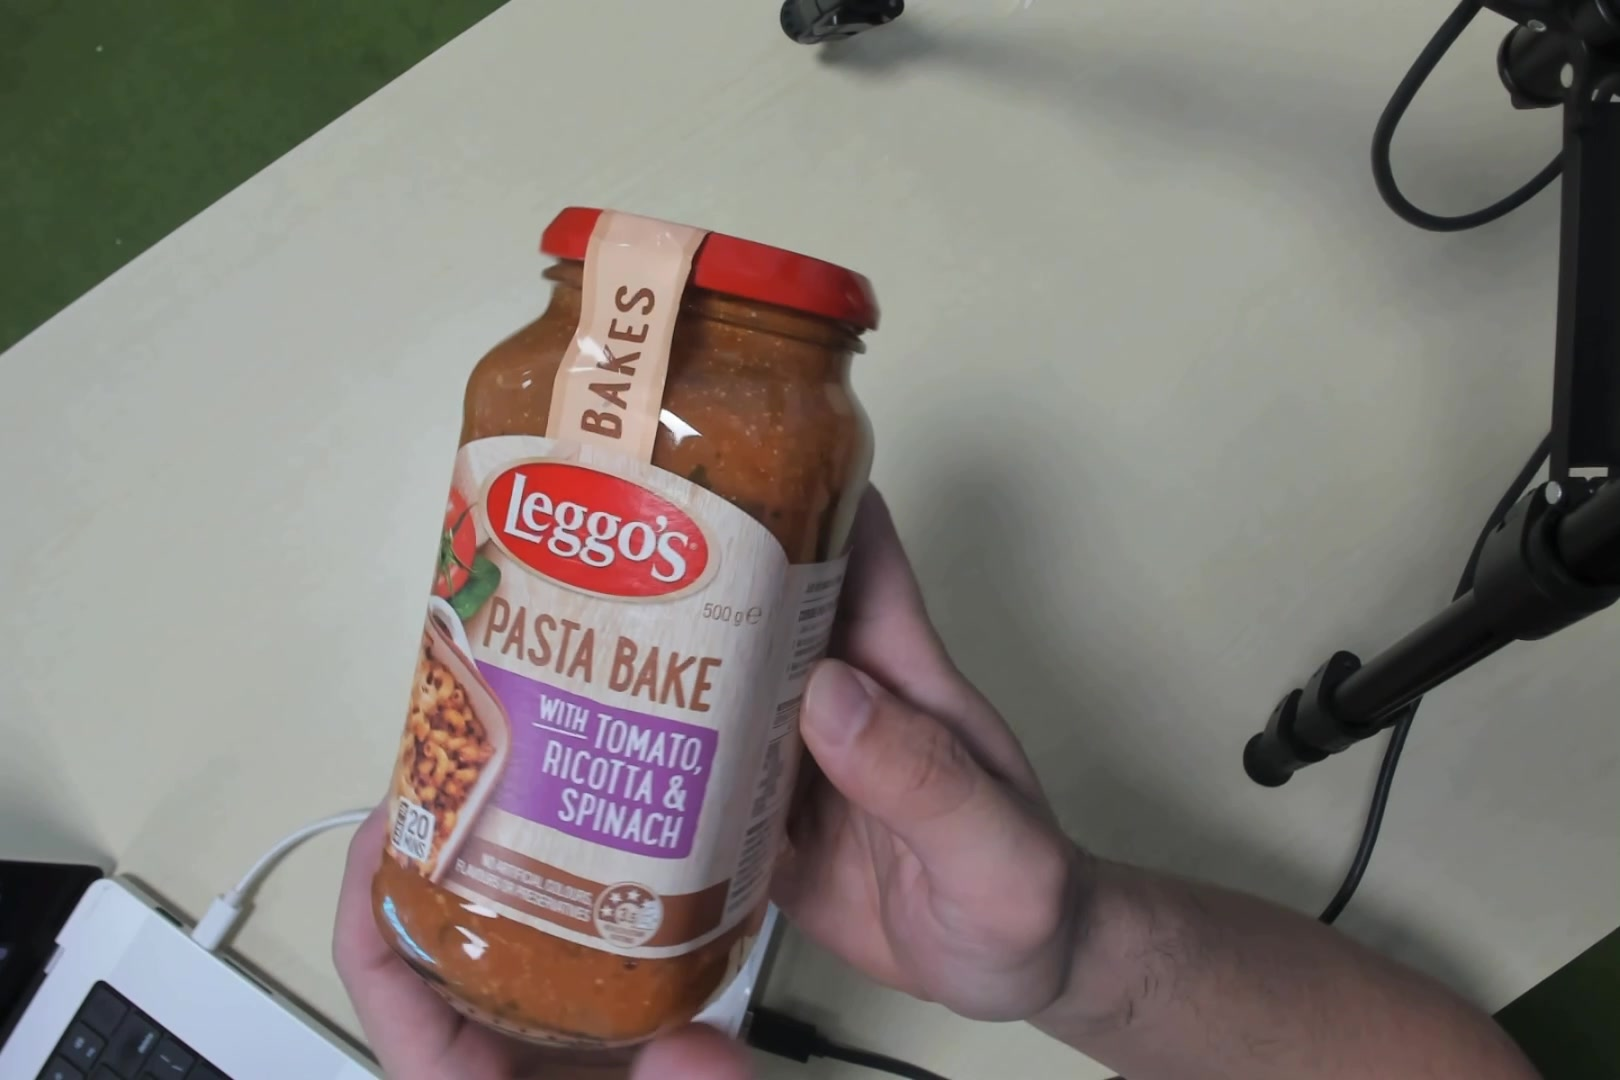Pasta_500-599g_Halal_NonHealthy: (415, 212, 796, 999)
